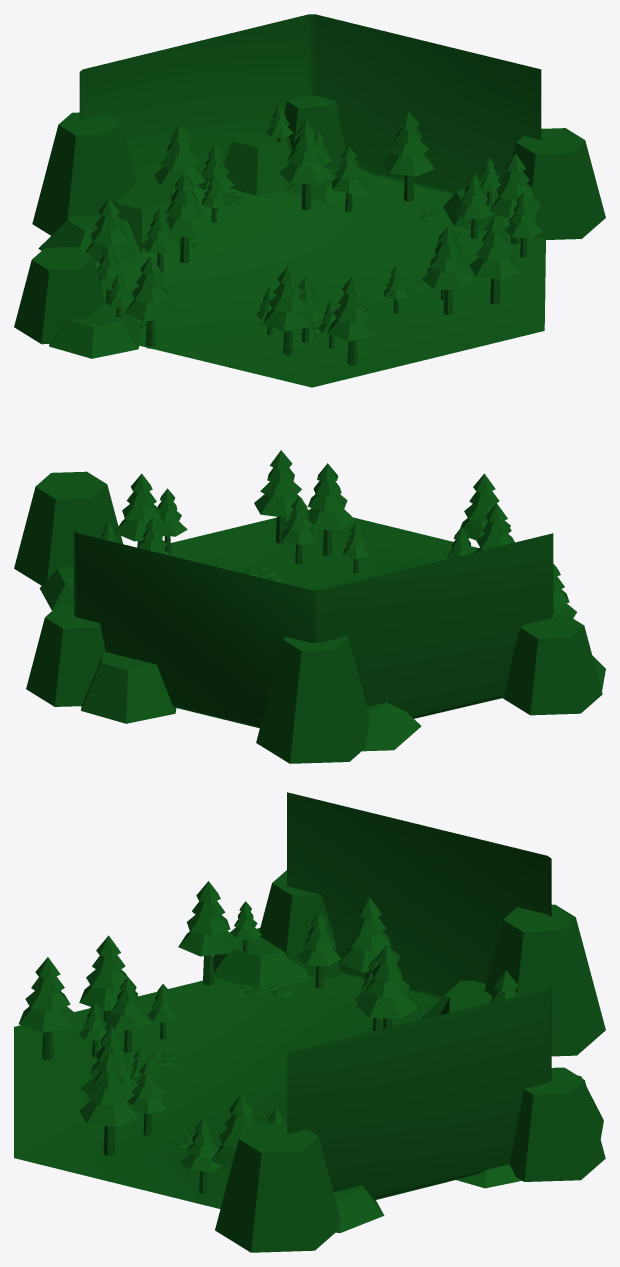
File: Floor.glb
The picture shows the model from 3 angles, top to bottom: view 1: azimuth 30°, elevation 25°; view 2: azimuth 150°, elevation 25°; view 3: azimuth 270°, elevation 25°; orthographic projection. The views are drawn at different scales.
Visible parts, largest first — view 1: Floor; view 2: Floor; view 3: Floor.
Part boxes in pixels (bbox=[...]): Floor: bbox=[14, 14, 605, 387]; Floor: bbox=[14, 450, 605, 763]; Floor: bbox=[14, 792, 605, 1252].
Size of the model in its own units: 35.91 by 9.4 by 28.6.
